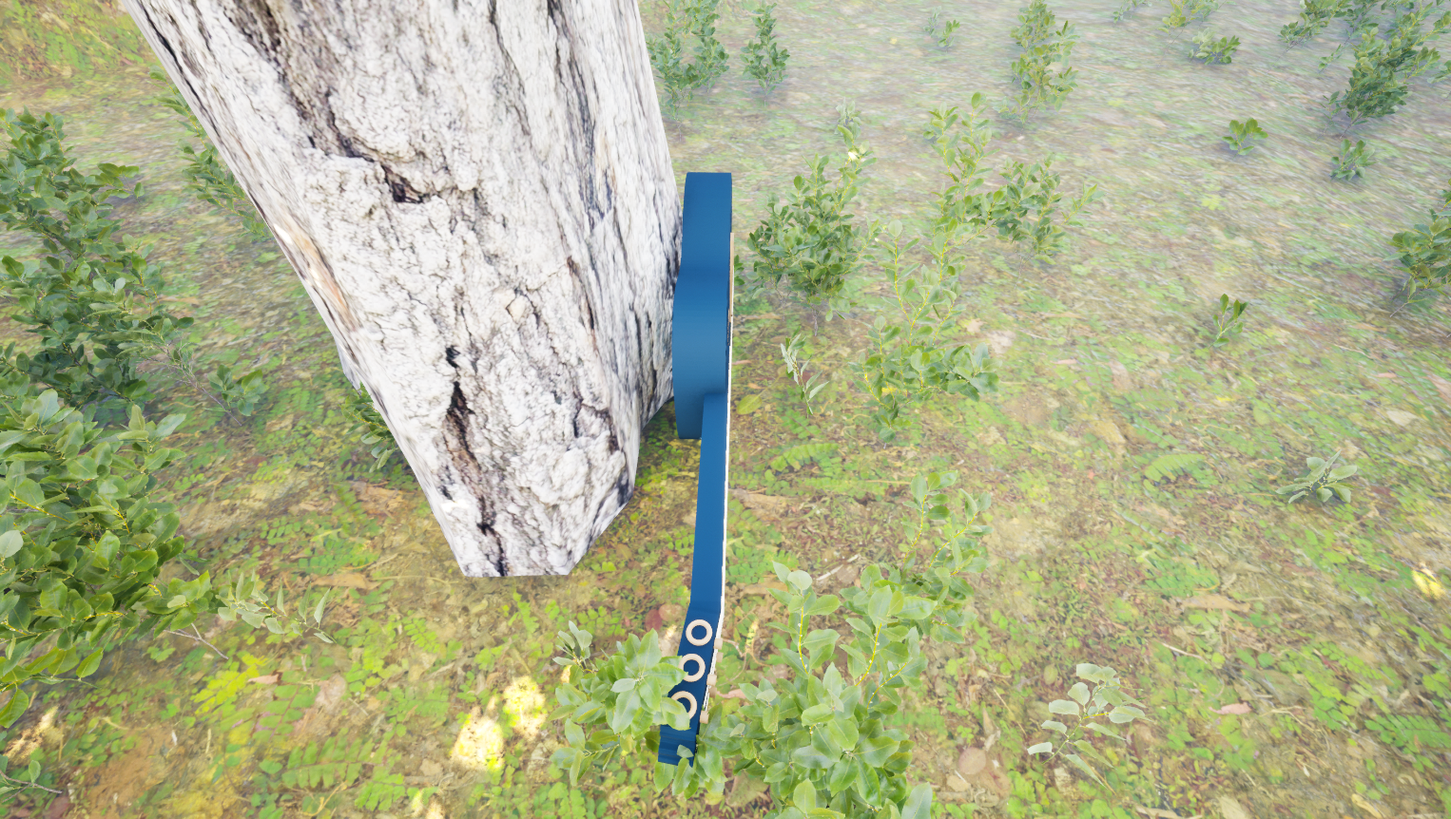Guitar: (608, 145, 736, 808)
